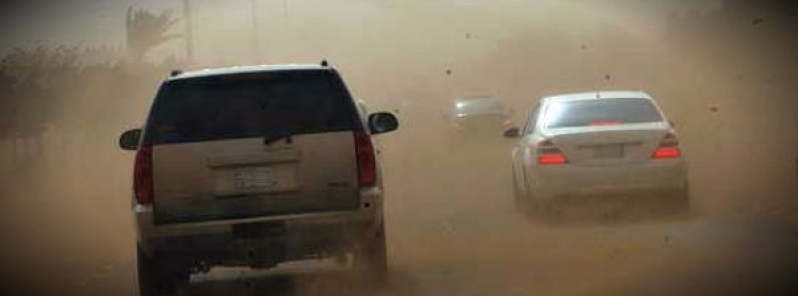car: (113, 57, 393, 292), (513, 89, 687, 221), (442, 96, 517, 148)
